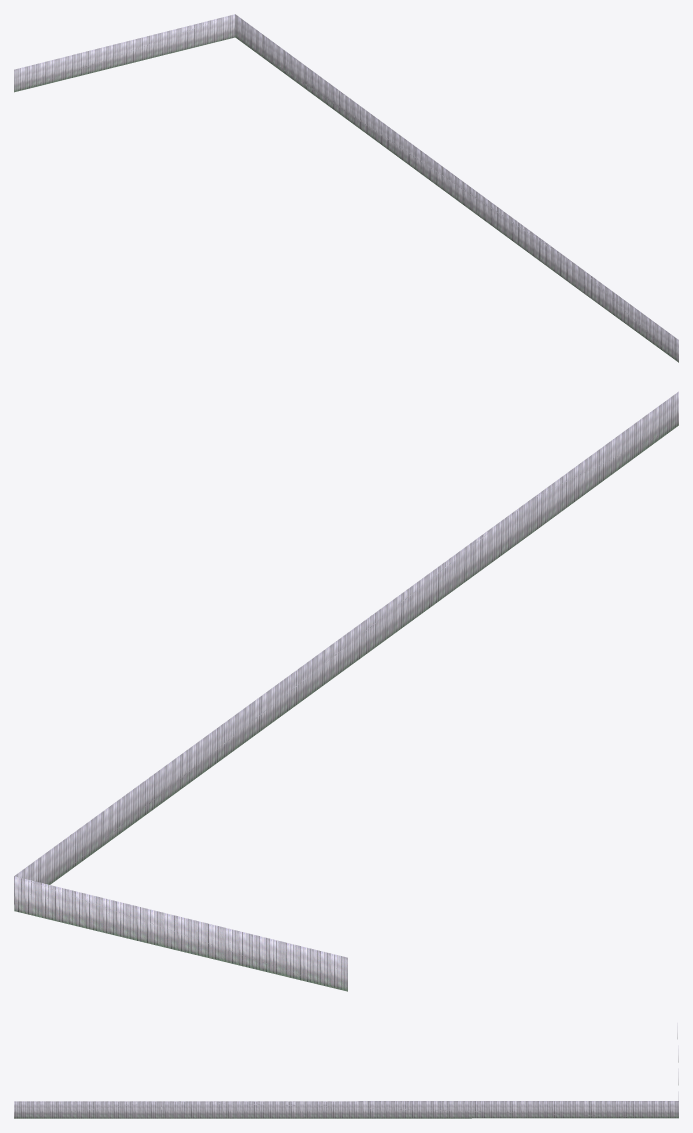
The model's file is wall03.glb.
3 views of the same model, one above another, from view 1: azimuth 30°, elevation 25°; view 2: azimuth 150°, elevation 25°; view 3: azimuth 270°, elevation 25° (orthographic). The views are drawn at different scales.
Visible parts, largest first — view 1: wall03; view 2: wall03; view 3: wall03.
Part boxes in pixels (<box>): wall03: <box>14,14,678,362</box>; wall03: <box>14,391,678,991</box>; wall03: <box>14,1023,678,1118</box>.
Bounding box in the file's own units: 2986 × 309 × 10331.
Materials: 1 (1 with a texture image).
